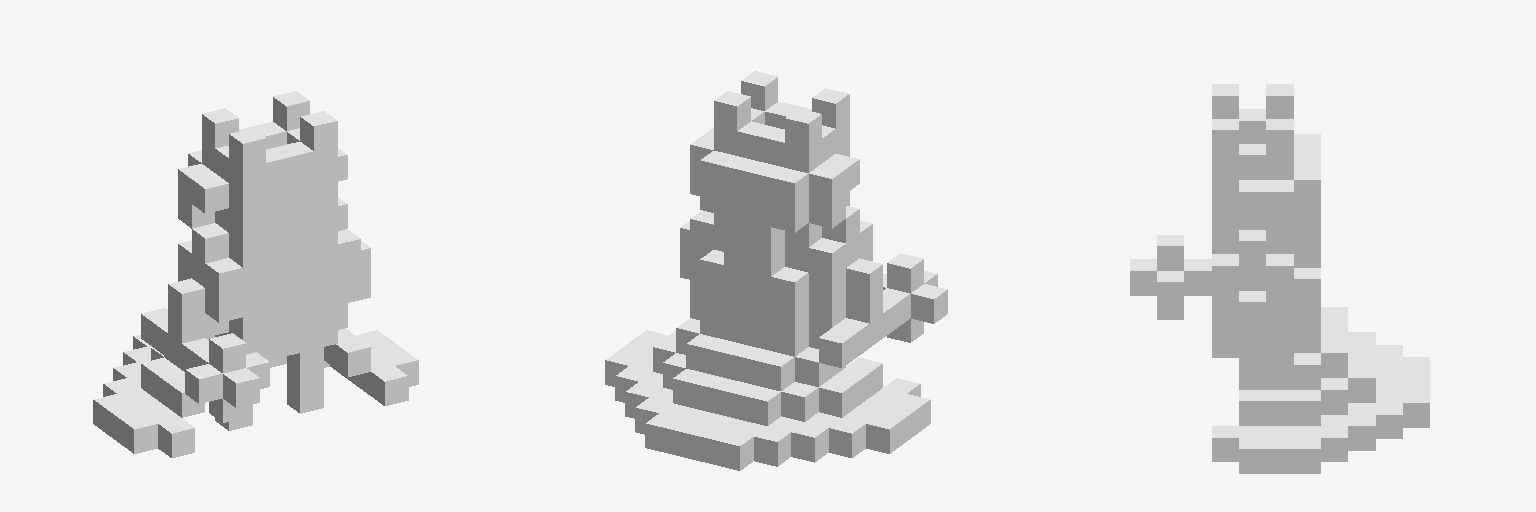
Rendered from king.obj.
3 views of the same model, side by side, from view 1: azimuth 30°, elevation 25°; view 2: azimuth 150°, elevation 25°; view 3: azimuth 270°, elevation 25° (orthographic).
Visible parts, largest first — view 1: object 1; view 2: object 1; view 3: object 1.
Boxes of the visible parts, x1,y1,x2,y2 form: object 1: [93, 91, 418, 457]; object 1: [605, 71, 947, 470]; object 1: [1130, 84, 1429, 473].
Bounding box in the file's own units: 1.2 × 1.2 × 1.1.